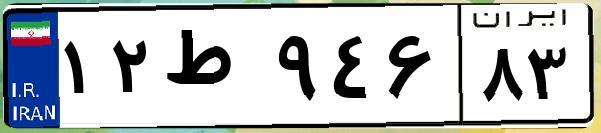1: (57, 26, 110, 100)
2: (110, 28, 158, 98)
3: (525, 38, 570, 115)
4: (330, 28, 385, 110)
6: (385, 28, 445, 110)
8: (475, 38, 525, 113)
9: (270, 28, 330, 110)
ط: (158, 20, 270, 120)
